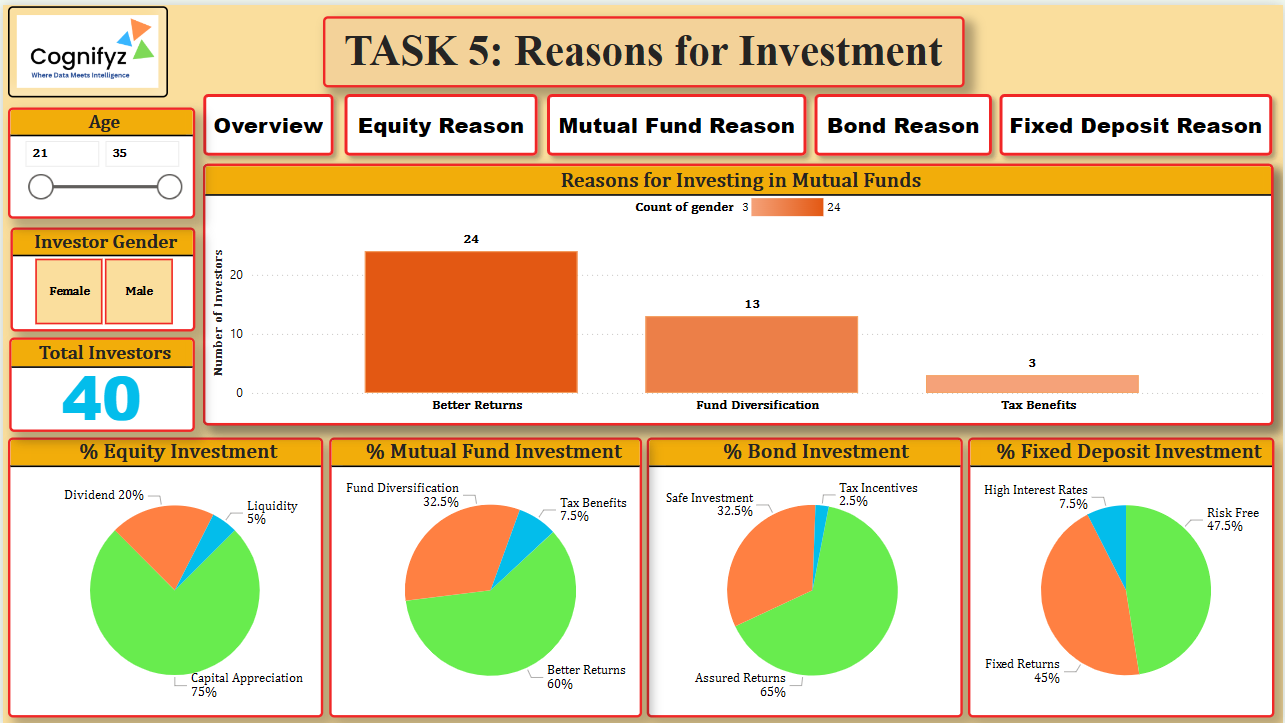

The page's visual inventory and layout, read from the dashboard file:
{"tool":"powerbi","page":{"name":"Task 5","canvas":[1280,720],"ordinal":9},"visuals":[{"type":"image","box":[5,1.2,160,91],"z":0},{"type":"textbox","box":[319.4,11.1,641.4,71.3],"z":1000},{"type":"pieChart","title":"% Equity Investment","fields":{"Category":["Data_set 2.Reason_Equity"],"Y":["CountNonNull(Data_set 2.Reason_Equity)"]},"box":[4.8,433.1,314.9,279.9],"z":2000},{"type":"actionButton","title":"Equity","box":[333,79.6,211.1,79.6],"z":3000},{"type":"actionButton","title":"Overview","box":[191.8,79.6,148.4,79.6],"z":4000},{"type":"actionButton","title":"Mutual Fund","box":[534.5,79.6,277.5,79.6],"z":5000},{"type":"actionButton","title":"Bond","box":[802.3,79.6,195.4,79.6],"z":6000},{"type":"actionButton","title":"FD","box":[988.1,79.6,290.8,79.6],"z":7000},{"type":"pieChart","title":"% Bond Investment","fields":{"Category":["Data_set 2.Reason_Bonds"],"Y":["CountNonNull(Data_set 2.Reason_Bonds)"]},"box":[644.2,433.1,316.1,279.9],"z":8000},{"type":"pieChart","title":"% Fixed Deposit Investment","fields":{"Category":["Data_set 2.Reason_FD"],"Y":["CountNonNull(Data_set 2.Reason_FD)"]},"box":[965.2,433.1,306.4,279.9],"z":9000},{"type":"pieChart","title":"% Mutual Fund Investment","fields":{"Category":["Data_set 2.Reason_Mutual"],"Y":["CountNonNull(Data_set 2.Reason_Mutual)"]},"box":[325.7,433.1,312.5,279.9],"z":10000},{"type":"columnChart","title":"Reasons for Investing in Fixed Deposits","fields":{"Y":["CountNonNull(Data_set 2.gender)"],"Category":["Data_set 2.Reason_FD"]},"box":[200.3,159.3,1070.1,261.8],"z":11000},{"type":"slicer","title":"Investor Gender","fields":{"Values":["Data_set 2.gender"]},"box":[7.2,222,184.6,103.8],"z":15000},{"type":"card","title":"Total Investors","fields":{"Values":["CountNonNull(Data_set 2.gender)"]},"box":[6,333,185.8,94.1],"z":16000},{"type":"slicer","title":"Age","fields":{"Values":["Data_set 2.age"]},"box":[4.8,102.5,187,111],"z":17000},{"type":"clusteredBarChart","title":"Preferred Investment Avenues","fields":{"Y":["CountNonNull(Data_set 2.gender)"],"Category":["Data_set 2.Avenue"]},"box":[200.3,159.3,1070.1,261.8],"z":18000}]}

Visuals, with their boxes in screenshot pixels (x1, y1, x2, y2), scaled from the page's 1280x720 canvas onto the 1285x723 screenshot:
image: 5/1/166/93
textbox: 321/11/965/83
"% Equity Investment" pieChart: 5/435/321/716
"Equity" actionButton: 334/80/546/160
"Overview" actionButton: 193/80/342/160
"Mutual Fund" actionButton: 537/80/815/160
"Bond" actionButton: 805/80/1002/160
"FD" actionButton: 992/80/1284/160
"% Bond Investment" pieChart: 647/435/964/716
"% Fixed Deposit Investment" pieChart: 969/435/1277/716
"% Mutual Fund Investment" pieChart: 327/435/641/716
"Reasons for Investing in Fixed Deposits" columnChart: 201/160/1275/423
"Investor Gender" slicer: 7/223/193/327
"Total Investors" card: 6/334/193/429
"Age" slicer: 5/103/193/214
"Preferred Investment Avenues" clusteredBarChart: 201/160/1275/423
